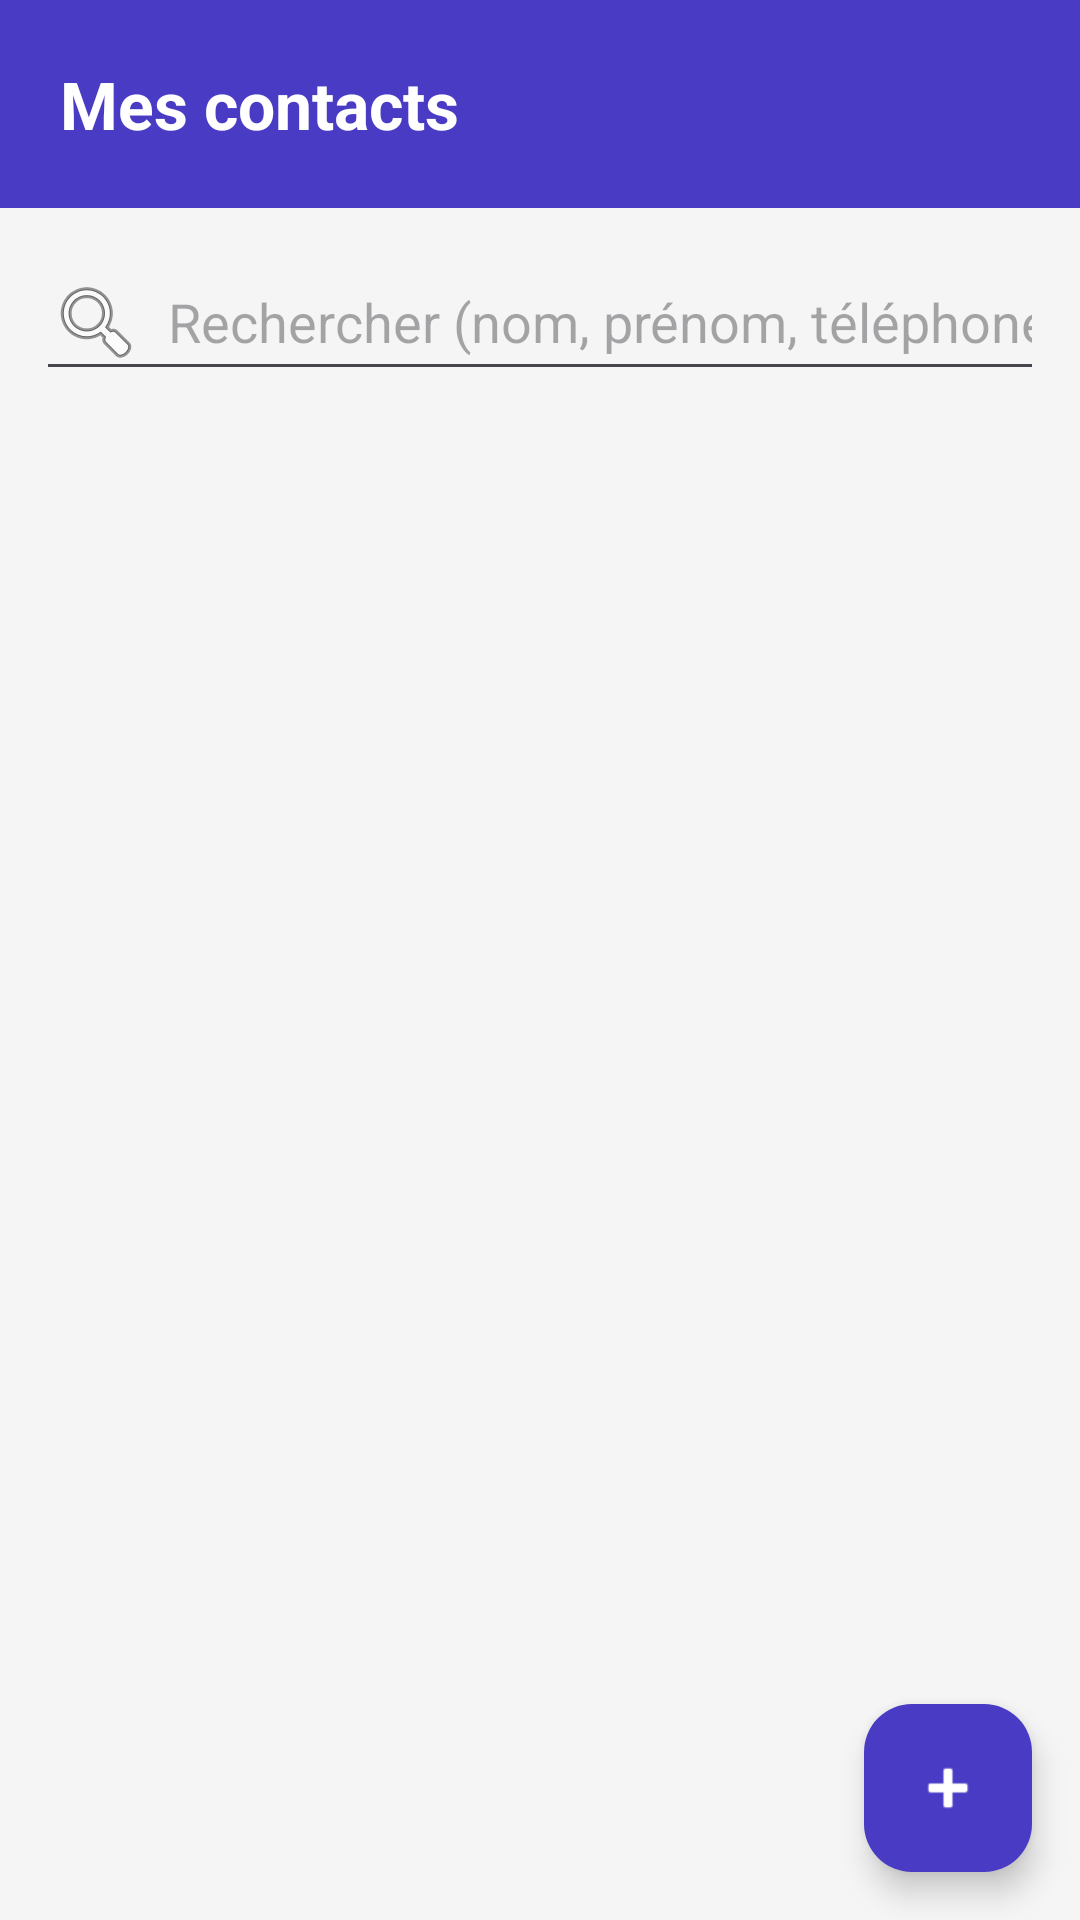

Icons on this 1080*1920 Android screen, each with its box as (x1, y1, x2, y2):
Ajouter un contact: (864, 1704, 1032, 1872)
